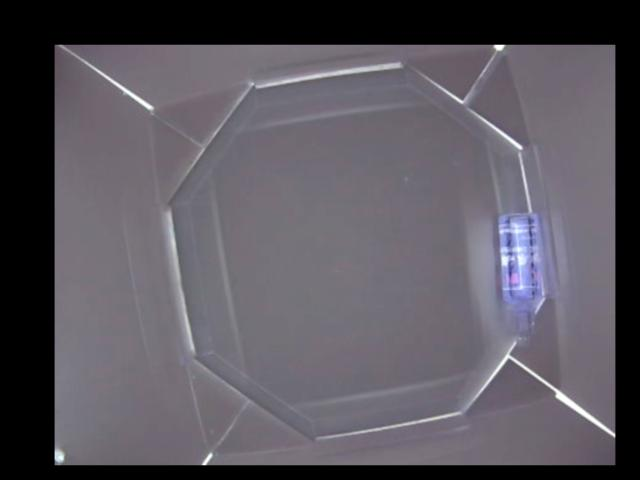Bottle: (493, 212, 547, 340)
